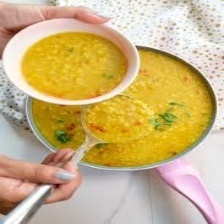dal: (58, 75, 220, 167)
